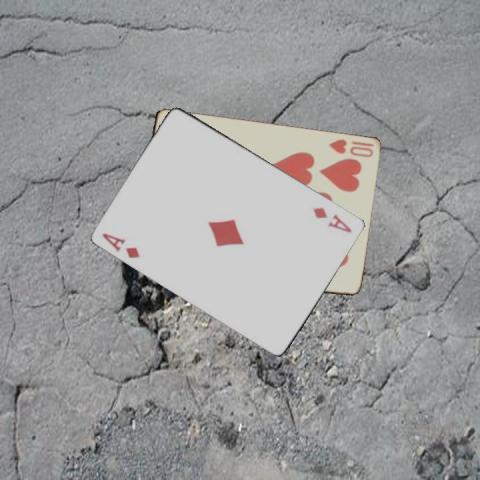10h: (326, 136, 376, 159)
Ad: (310, 204, 354, 234), (100, 229, 142, 260)
